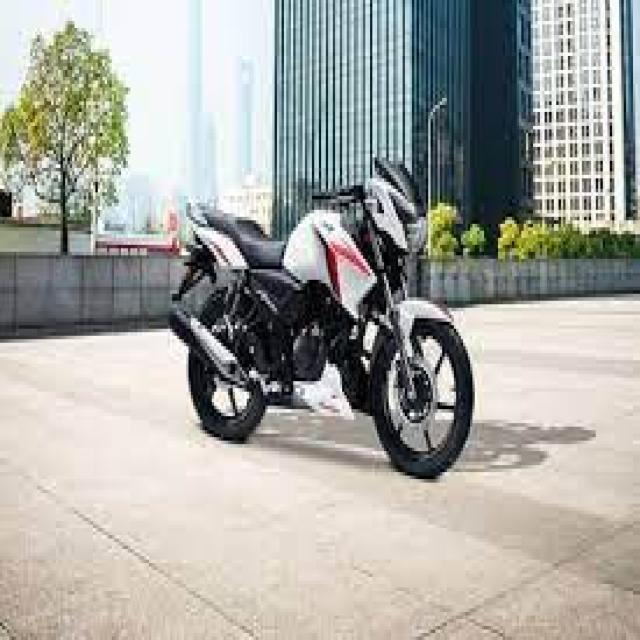bike: (165, 150, 478, 470)
